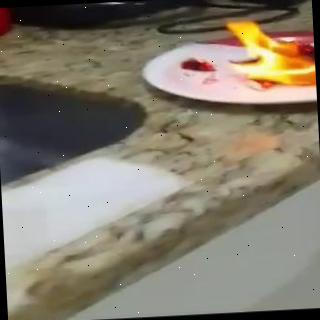fire: (220, 15, 316, 96)
